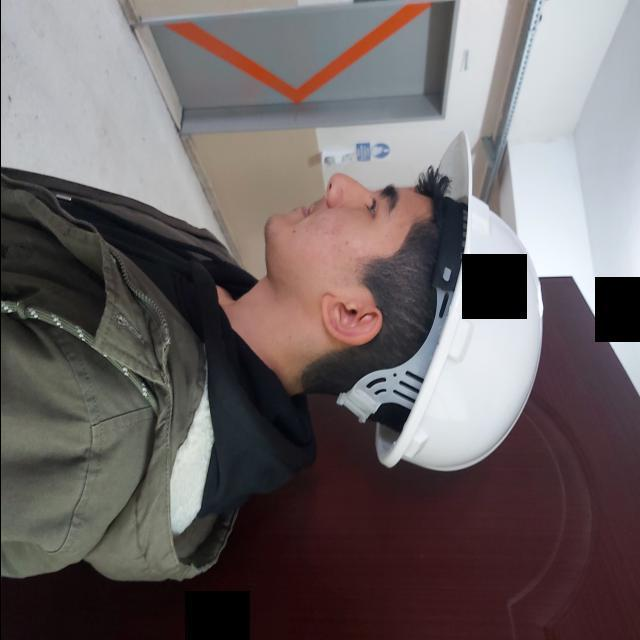white helmet: (395, 163, 549, 519)
